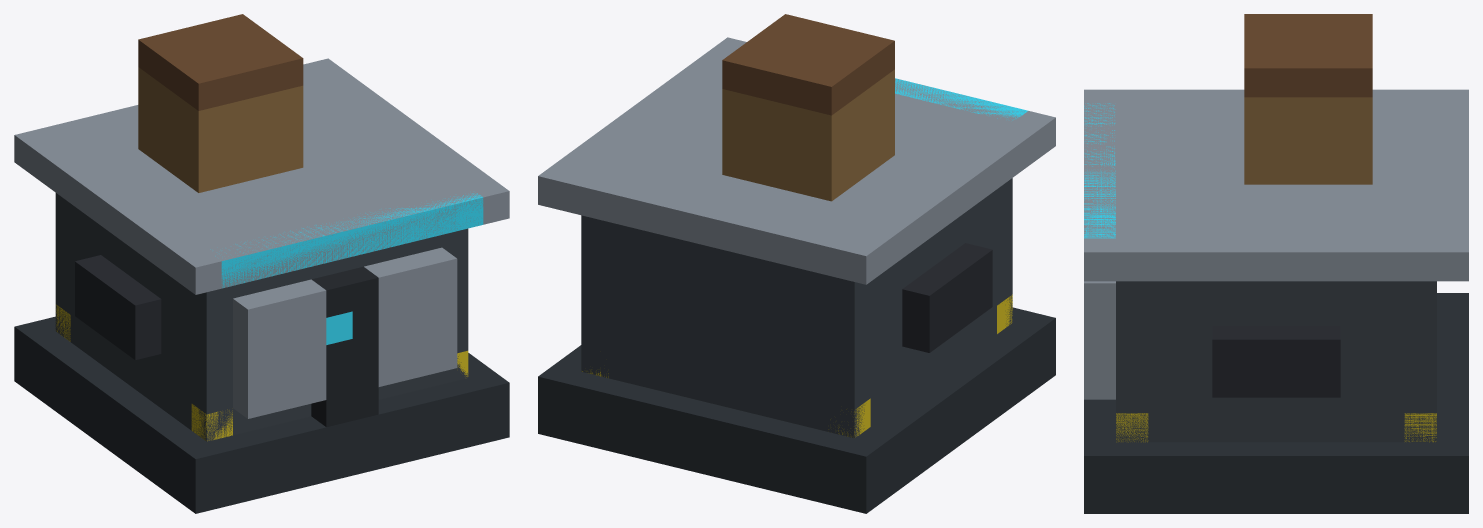
Rendered from struct_supply_depot.glb.
3 renders of one model, left to right at view 1: azimuth 30°, elevation 25°; view 2: azimuth 150°, elevation 25°; view 3: azimuth 270°, elevation 25°, orthographic. The views are drawn at different scales.
Parts seen in each view (by area): view 1: Roof mesh, Base mesh, Block mesh, Panel mesh, Crate mesh, Lid mesh, Door mesh, Strip mesh, Vent mesh, Corner mesh; view 2: Block mesh, Roof mesh, Base mesh, Crate mesh, Lid mesh, Vent mesh, Strip mesh, Corner mesh; view 3: Roof mesh, Block mesh, Base mesh, Crate mesh, Lid mesh, Vent mesh, Panel mesh, Strip mesh, Corner mesh.
Part boxes in pixels (x1,y1,x2,y2): Roof mesh: [14, 58, 509, 294]; Base mesh: [14, 316, 509, 513]; Block mesh: [55, 193, 468, 441]; Panel mesh: [233, 247, 457, 418]; Crate mesh: [138, 67, 303, 192]; Lid mesh: [138, 14, 303, 110]; Door mesh: [311, 266, 378, 427]; Strip mesh: [210, 193, 483, 288]; Vent mesh: [75, 255, 161, 360]; Corner mesh: [55, 304, 468, 441]; Block mesh: [581, 178, 1012, 438]; Roof mesh: [538, 37, 1055, 284]; Base mesh: [538, 307, 1055, 513]; Crate mesh: [722, 69, 894, 201]; Lid mesh: [722, 14, 894, 115]; Vent mesh: [902, 243, 992, 352]; Strip mesh: [895, 78, 1028, 120]; Corner mesh: [582, 294, 1012, 437]; Roof mesh: [1084, 89, 1468, 281]; Block mesh: [1116, 281, 1436, 442]; Base mesh: [1084, 293, 1468, 513]; Crate mesh: [1244, 97, 1372, 184]; Lid mesh: [1244, 14, 1372, 97]; Vent mesh: [1212, 326, 1340, 397]; Panel mesh: [1084, 281, 1115, 399]; Strip mesh: [1084, 103, 1115, 238]; Corner mesh: [1116, 413, 1436, 442].
Size of the model in its own units: 12 by 13 by 12.
1 material, 1 textured.
